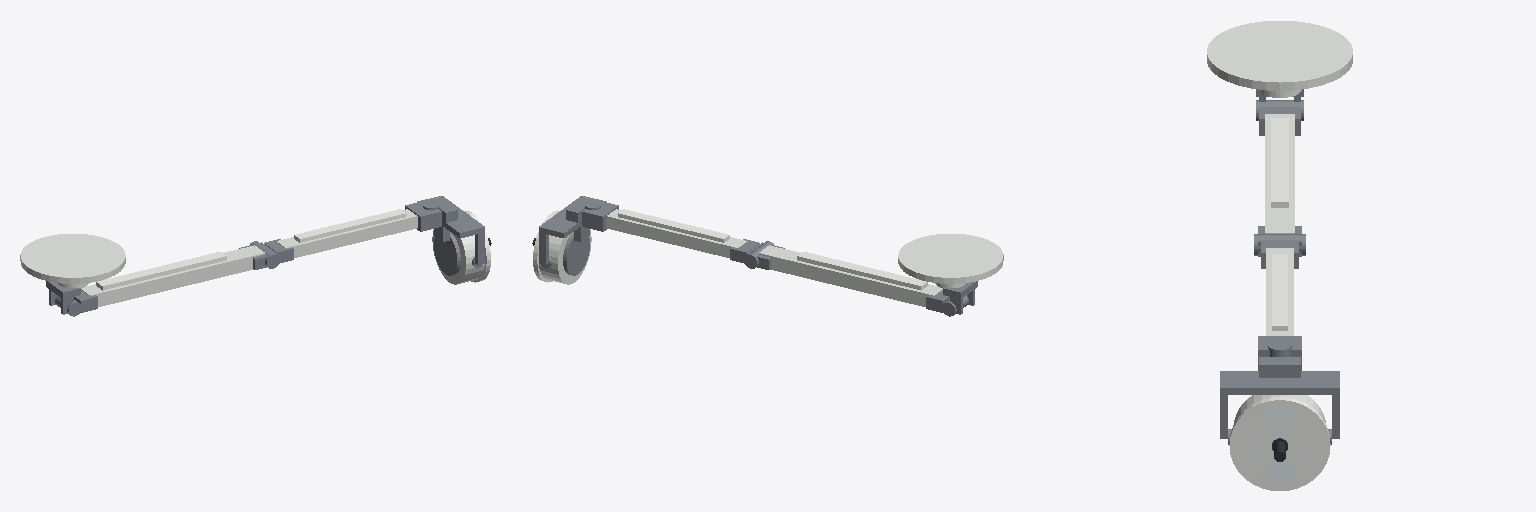
robot.urdf — ceiling_exam_lamp:
<robot name="ceiling_exam_lamp">
  <material name="warm_white">
    <color rgba="0.91 0.92 0.9 1" />
    </material>
  <material name="satin_white">
    <color rgba="0.96 0.96 0.94 1" />
    </material>
  <material name="joint_gray">
    <color rgba="0.56 0.58 0.61 1" />
    </material>
  <material name="dark_trim">
    <color rgba="0.24 0.25 0.27 1" />
    </material>
  <material name="lens_glass">
    <color rgba="0.93 0.96 0.99 0.45" />
    </material>
  <link name="ceiling_mount">
    <inertial>
      <origin xyz="0 0 -0.065" rpy="0 0 0" />
      <mass value="6.5" />
      <inertia ixx="0.0457708" ixy="0" ixz="0" iyy="0.0457708" iyz="0" izz="0.0732333" />
      </inertial>
    <visual name="ceiling_plate">
      <origin xyz="0 0 -0.008" rpy="0 0 0" />
      <geometry>
        <cylinder radius="0.125" length="0.016" />
        </geometry>
      <material name="warm_white">
        <color rgba="0.91 0.92 0.9 1" />
        </material>
      </visual>
    <visual name="drop_neck">
      <origin xyz="0 0 -0.043" rpy="0 0 0" />
      <geometry>
        <cylinder radius="0.038" length="0.054" />
        </geometry>
      <material name="warm_white">
        <color rgba="0.91 0.92 0.9 1" />
        </material>
      </visual>
    <visual name="shoulder_bridge">
      <origin xyz="-0.026 0 -0.077" rpy="0 0 0" />
      <geometry>
        <box size="0.05 0.082 0.018" />
        </geometry>
      <material name="joint_gray">
        <color rgba="0.56 0.58 0.61 1" />
        </material>
      </visual>
    <visual name="left_shoulder_cheek">
      <origin xyz="-0.032 0.029 -0.102" rpy="0 0 0" />
      <geometry>
        <box size="0.03 0.012 0.056" />
        </geometry>
      <material name="joint_gray">
        <color rgba="0.56 0.58 0.61 1" />
        </material>
      </visual>
    <visual name="right_shoulder_cheek">
      <origin xyz="-0.032 -0.029 -0.102" rpy="0 0 0" />
      <geometry>
        <box size="0.03 0.012 0.056" />
        </geometry>
      <material name="joint_gray">
        <color rgba="0.56 0.58 0.61 1" />
        </material>
      </visual>
    <visual name="shoulder_barrel">
      <origin xyz="-0.018 0 -0.12" rpy="1.5708 0 0" />
      <geometry>
        <cylinder radius="0.018" length="0.082" />
        </geometry>
      <material name="joint_gray">
        <color rgba="0.56 0.58 0.61 1" />
        </material>
      </visual>
    </link>
  <link name="upper_arm">
    <inertial>
      <origin xyz="0.27 0 0" rpy="0 0 0" />
      <mass value="4.2" />
      <inertia ixx="0.00455" ixy="0" ixz="0" iyy="0.103775" iyz="0" izz="0.104895" />
      </inertial>
    <visual name="shoulder_knuckle">
      <origin xyz="0.024 0 0" rpy="0 0 0" />
      <geometry>
        <box size="0.048 0.072 0.032" />
        </geometry>
      <material name="joint_gray">
        <color rgba="0.56 0.58 0.61 1" />
        </material>
      </visual>
    <visual name="upper_arm_body">
      <origin xyz="0.272 0 0" rpy="0 0 0" />
      <geometry>
        <box size="0.48 0.05 0.036" />
        </geometry>
      <material name="warm_white">
        <color rgba="0.91 0.92 0.9 1" />
        </material>
      </visual>
    <visual name="upper_arm_cover">
      <origin xyz="0.242 0 0.02" rpy="0 0 0" />
      <geometry>
        <box size="0.34 0.03 0.018" />
        </geometry>
      <material name="satin_white">
        <color rgba="0.96 0.96 0.94 1" />
        </material>
      </visual>
    <visual name="elbow_barrel">
      <origin xyz="0.522 0 0" rpy="1.5708 0 0" />
      <geometry>
        <cylinder radius="0.018" length="0.09" />
        </geometry>
      <material name="joint_gray">
        <color rgba="0.56 0.58 0.61 1" />
        </material>
      </visual>
    <visual name="elbow_housing">
      <origin xyz="0.508 0 0" rpy="0 0 0" />
      <geometry>
        <box size="0.062 0.076 0.028" />
        </geometry>
      <material name="joint_gray">
        <color rgba="0.56 0.58 0.61 1" />
        </material>
      </visual>
    </link>
  <link name="forearm">
    <inertial>
      <origin xyz="0.23 0 0" rpy="0 0 0" />
      <mass value="3.6" />
      <inertia ixx="0.00339" ixy="0" ixz="0" iyy="0.06495" iyz="0" izz="0.0654" />
      </inertial>
    <visual name="elbow_knuckle">
      <origin xyz="0.023 0 0" rpy="0 0 0" />
      <geometry>
        <box size="0.046 0.064 0.03" />
        </geometry>
      <material name="joint_gray">
        <color rgba="0.56 0.58 0.61 1" />
        </material>
      </visual>
    <visual name="forearm_body">
      <origin xyz="0.23 0 0" rpy="0 0 0" />
      <geometry>
        <box size="0.4 0.046 0.032" />
        </geometry>
      <material name="warm_white">
        <color rgba="0.91 0.92 0.9 1" />
        </material>
      </visual>
    <visual name="forearm_cover">
      <origin xyz="0.218 0 0.018" rpy="0 0 0" />
      <geometry>
        <box size="0.29 0.028 0.016" />
        </geometry>
      <material name="satin_white">
        <color rgba="0.96 0.96 0.94 1" />
        </material>
      </visual>
    <visual name="wrist_housing">
      <origin xyz="0.42 0 0" rpy="0 0 0" />
      <geometry>
        <box size="0.06 0.074 0.04" />
        </geometry>
      <material name="joint_gray">
        <color rgba="0.56 0.58 0.61 1" />
        </material>
      </visual>
    <visual name="wrist_barrel">
      <origin xyz="0.44 0 0" rpy="0 0 0" />
      <geometry>
        <cylinder radius="0.02" length="0.05" />
        </geometry>
      <material name="joint_gray">
        <color rgba="0.56 0.58 0.61 1" />
        </material>
      </visual>
    </link>
  <link name="pan_yoke">
    <inertial>
      <origin xyz="0.045 0 -0.055" rpy="0 0 0" />
      <mass value="1.8" />
      <inertia ixx="0.009795" ixy="0" ixz="0" iyy="0.004035" iyz="0" izz="0.00876" />
      </inertial>
    <visual name="pan_knuckle">
      <origin xyz="0.016 0 -0.002" rpy="0 0 0" />
      <geometry>
        <box size="0.032 0.072 0.03" />
        </geometry>
      <material name="joint_gray">
        <color rgba="0.56 0.58 0.61 1" />
        </material>
      </visual>
    <visual name="drop_stem">
      <origin xyz="0.01 0 -0.035" rpy="0 0 0" />
      <geometry>
        <box size="0.02 0.04 0.07" />
        </geometry>
      <material name="joint_gray">
        <color rgba="0.56 0.58 0.61 1" />
        </material>
      </visual>
    <visual name="yoke_bridge">
      <origin xyz="0.035 0 -0.02" rpy="0 0 0" />
      <geometry>
        <box size="0.07 0.205 0.014" />
        </geometry>
      <material name="joint_gray">
        <color rgba="0.56 0.58 0.61 1" />
        </material>
      </visual>
    <visual name="left_yoke_arm">
      <origin xyz="0.06 0.095 -0.065" rpy="0 0 0" />
      <geometry>
        <box size="0.018 0.014 0.09" />
        </geometry>
      <material name="joint_gray">
        <color rgba="0.56 0.58 0.61 1" />
        </material>
      </visual>
    <visual name="right_yoke_arm">
      <origin xyz="0.06 -0.095 -0.065" rpy="0 0 0" />
      <geometry>
        <box size="0.018 0.014 0.09" />
        </geometry>
      <material name="joint_gray">
        <color rgba="0.56 0.58 0.61 1" />
        </material>
      </visual>
    </link>
  <link name="lamp_head">
    <inertial>
      <mass value="2.4" />
      <inertia ixx="0.01296" ixy="0" ixz="0" iyy="0.01098" iyz="0" izz="0.01098" />
      </inertial>
    <visual name="head_shell">
      <origin xyz="0 0 0" rpy="0 1.5708 0" />
      <geometry>
        <cylinder radius="0.08" length="0.06" />
        </geometry>
      <material name="warm_white">
        <color rgba="0.91 0.92 0.9 1" />
        </material>
      </visual>
    <visual name="front_bezel">
      <origin xyz="0.029 0 0" rpy="0 1.5708 0" />
      <geometry>
        <cylinder radius="0.086" length="0.012" />
        </geometry>
      <material name="satin_white">
        <color rgba="0.96 0.96 0.94 1" />
        </material>
      </visual>
    <visual name="front_lens">
      <origin xyz="0.032 0 0" rpy="0 1.5708 0" />
      <geometry>
        <cylinder radius="0.072" length="0.006" />
        </geometry>
      <material name="lens_glass">
        <color rgba="0.93 0.96 0.99 0.45" />
        </material>
      </visual>
    <visual name="rear_housing">
      <origin xyz="-0.028 0 0" rpy="0 1.5708 0" />
      <geometry>
        <cylinder radius="0.056" length="0.024" />
        </geometry>
      <material name="joint_gray">
        <color rgba="0.56 0.58 0.61 1" />
        </material>
      </visual>
    <visual name="left_trunnion">
      <origin xyz="0 0.074 0" rpy="1.5708 0 0" />
      <geometry>
        <cylinder radius="0.014" length="0.028" />
        </geometry>
      <material name="joint_gray">
        <color rgba="0.56 0.58 0.61 1" />
        </material>
      </visual>
    <visual name="right_trunnion">
      <origin xyz="0 -0.074 0" rpy="1.5708 0 0" />
      <geometry>
        <cylinder radius="0.014" length="0.028" />
        </geometry>
      <material name="joint_gray">
        <color rgba="0.56 0.58 0.61 1" />
        </material>
      </visual>
    <visual name="exam_handle">
      <origin xyz="0.056 0 0" rpy="0 1.5708 0" />
      <geometry>
        <cylinder radius="0.01" length="0.048" />
        </geometry>
      <material name="dark_trim">
        <color rgba="0.24 0.25 0.27 1" />
        </material>
      </visual>
    <visual name="handle_mount">
      <origin xyz="0.034 0 0" rpy="0 1.5708 0" />
      <geometry>
        <cylinder radius="0.014" length="0.01" />
        </geometry>
      <material name="dark_trim">
        <color rgba="0.24 0.25 0.27 1" />
        </material>
      </visual>
    </link>
  <joint name="shoulder_pitch" type="revolute">
    <origin xyz="0 0 -0.12" rpy="0 0 0" />
    <parent link="ceiling_mount" />
    <child link="upper_arm" />
    <axis xyz="0 -1 0" />
    <limit effort="24" velocity="1.4" lower="-1.05" upper="0.8" />
    </joint>
  <joint name="elbow_pitch" type="revolute">
    <origin xyz="0.54 0 0" rpy="0 0 0" />
    <parent link="upper_arm" />
    <child link="forearm" />
    <axis xyz="0 -1 0" />
    <limit effort="20" velocity="1.6" lower="-1.2" upper="1.1" />
    </joint>
  <joint name="head_pan" type="revolute">
    <origin xyz="0.46 0 0" rpy="0 0 0" />
    <parent link="forearm" />
    <child link="pan_yoke" />
    <axis xyz="0 0 1" />
    <limit effort="10" velocity="2" lower="-1.6" upper="1.6" />
    </joint>
  <joint name="head_tilt" type="revolute">
    <origin xyz="0.06 0 -0.11" rpy="0 0 0" />
    <parent link="pan_yoke" />
    <child link="lamp_head" />
    <axis xyz="0 1 0" />
    <limit effort="10" velocity="2" lower="-0.95" upper="0.85" />
    </joint>
  </robot>

--- Render facts (derived) ---
The picture shows the robot from 3 angles, left to right: view 1: azimuth 30°, elevation 25°; view 2: azimuth 150°, elevation 25°; view 3: azimuth 270°, elevation 25°; orthographic projection.
Robot: ceiling_exam_lamp — 5 links, 4 joints (4 revolute); root link ceiling_mount; default pose: every joint at zero.
Links seen in each view (by area): view 1: ceiling_mount, upper_arm, forearm, lamp_head, pan_yoke; view 2: ceiling_mount, upper_arm, forearm, lamp_head, pan_yoke; view 3: ceiling_mount, lamp_head, upper_arm, pan_yoke, forearm.
Boxes of the visible links, box(x1,y1,x2,y2) form: ceiling_mount: box(20, 234, 125, 316); upper_arm: box(74, 241, 279, 312); forearm: box(264, 200, 441, 263); lamp_head: box(432, 211, 491, 284); pan_yoke: box(417, 196, 484, 265); ceiling_mount: box(898, 234, 1003, 316); upper_arm: box(744, 241, 949, 312); forearm: box(582, 200, 759, 263); lamp_head: box(532, 211, 591, 284); pan_yoke: box(539, 196, 606, 265); ceiling_mount: box(1207, 21, 1352, 120); lamp_head: box(1228, 395, 1331, 490); upper_arm: box(1254, 107, 1305, 256); pan_yoke: box(1220, 357, 1339, 438); forearm: box(1258, 241, 1301, 370).
Bounding box of the posed robot: 1.26 × 0.25 × 0.316 m (x, y, z).
Geometry: primitives only (box / cylinder / sphere), no mesh files.
